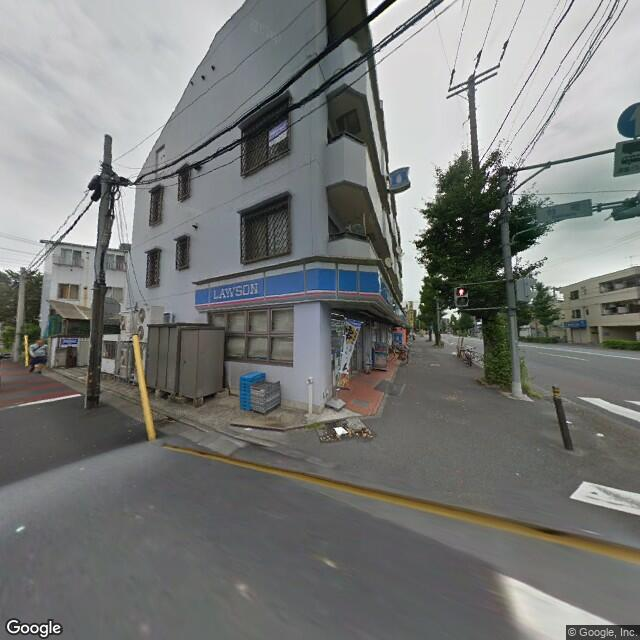lawson: (194, 258, 407, 337), (390, 160, 412, 195)
